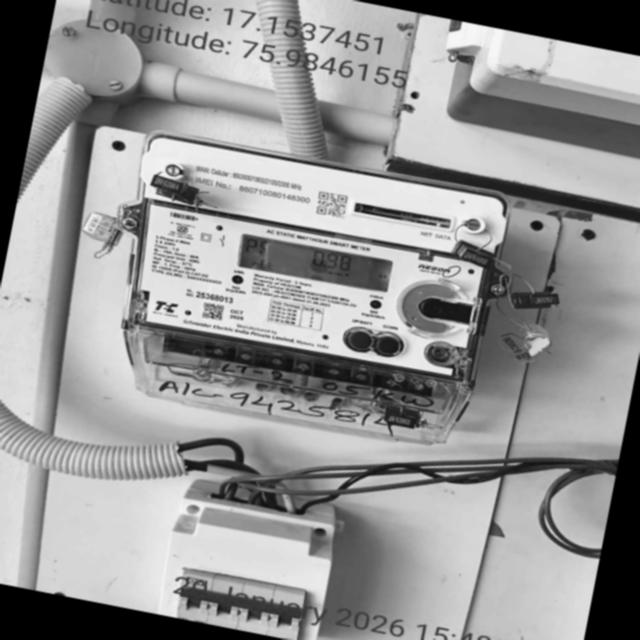meter: (117, 136, 508, 385)
